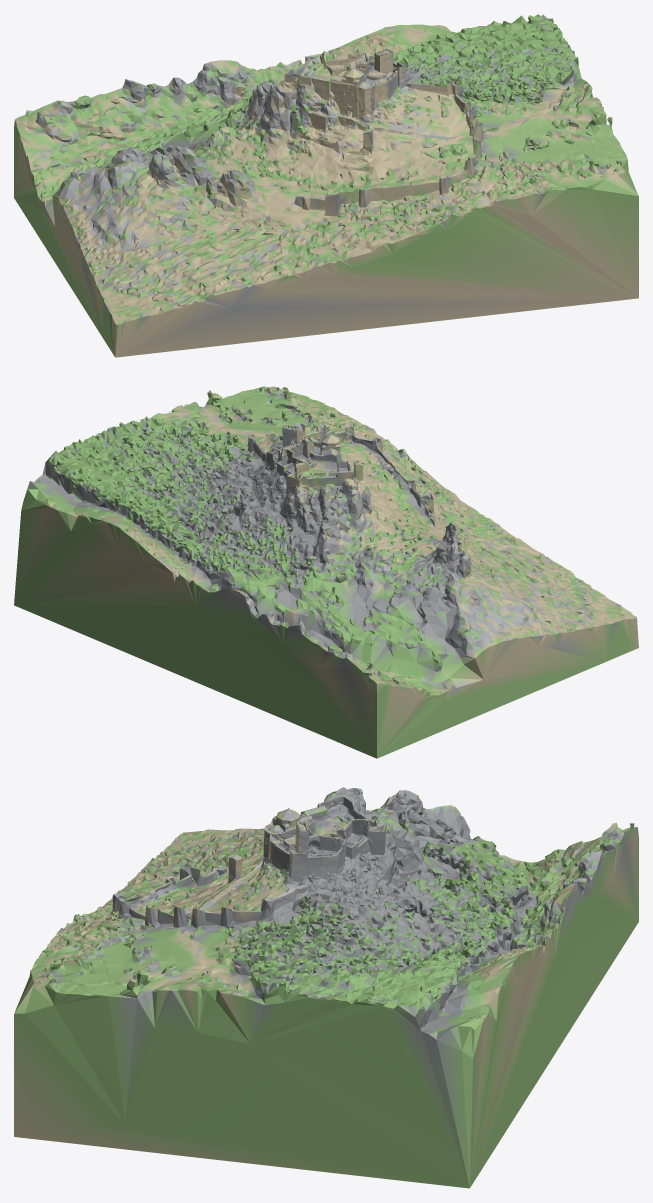
The model's file is castle-loarre.glb.
3 renders of one model, top to bottom at view 1: azimuth 30°, elevation 25°; view 2: azimuth 150°, elevation 25°; view 3: azimuth 270°, elevation 25°, orthographic. The views are drawn at different scales.
Visible parts, largest first — view 1: geometry_0; view 2: geometry_0; view 3: geometry_0.
Part boxes in pixels (x1,y1,x2,y2): geometry_0: [14, 14, 638, 357]; geometry_0: [14, 386, 638, 758]; geometry_0: [14, 787, 638, 1188].
Size of the model in its own units: 220 by 74.5 by 182.
